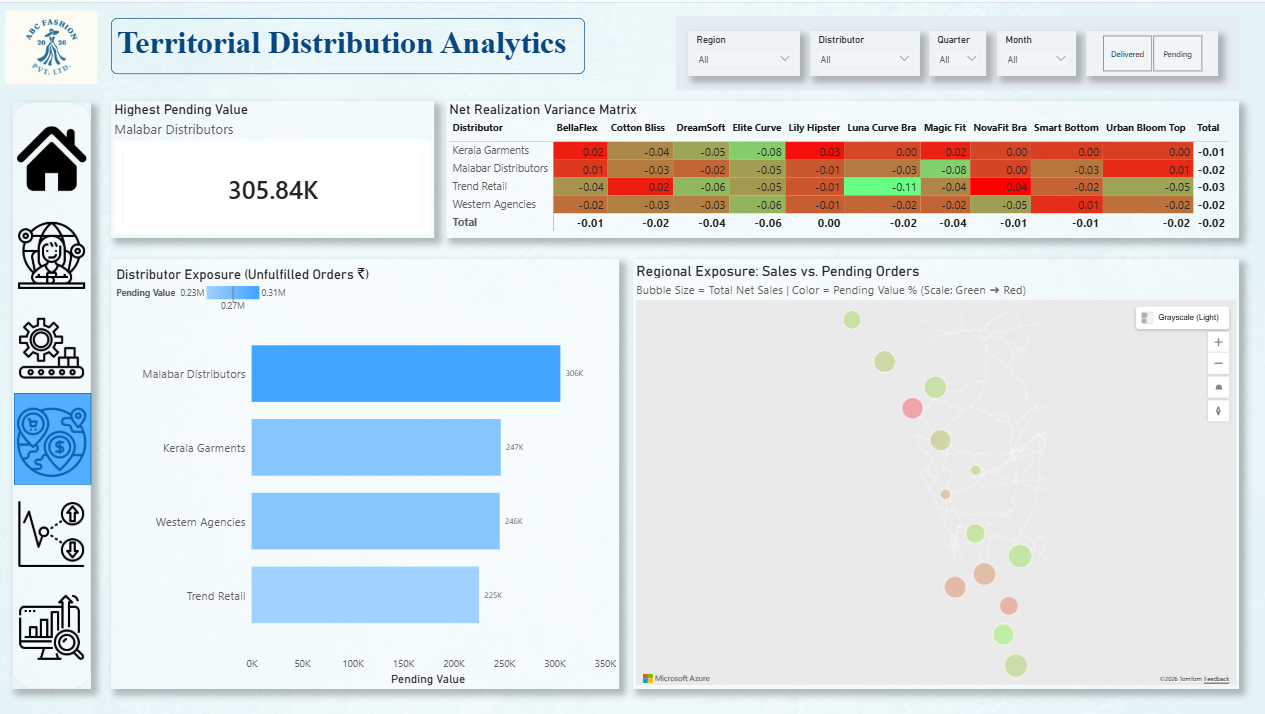

The dashboard page shown, as its layout file describes it:
{"tool":"powerbi","page":{"name":"Territorial Distribution Analytics","canvas":[1920,1080],"ordinal":3},"visuals":[{"type":"textbox","box":[169.2,22.2,717.7,85.4],"z":0},{"type":"image","box":[9.2,0,140.2,134.6],"z":1000},{"type":"azureMap","title":"Regional Exposure: Sales vs. Pending Orders","fields":{"Category":["Dim_Region.Region_FullName"],"Size":["Measures_Table.Total Net Sales"]},"box":[960,388.4,918.1,651],"z":4000},{"type":"image","box":[27,328.9,104.7,106.8],"z":5000,"group":"g1"},{"type":"clusteredBarChart","title":"Distributor Exposure (Unfulfilled Orders ₹)","fields":{"Category":["Dim_Distributor.Distributor"],"Y":["Measures_Table.Pending Value"]},"box":[169.9,388.4,770.2,651],"z":5000},{"type":"pivotTable","title":"Net Realization Variance Matrix","fields":{"Rows":["Dim_Distributor.Distributor"],"Columns":["Dim_Style.Product"],"Values":["Measures_Table.Net Realization Variance %"]},"box":[677.5,148.2,1200.6,207.4],"z":6000},{"type":"image","box":[27,177.2,104.7,117.3],"z":6000,"group":"g1"},{"type":"cardVisual","title":"Highest Pending Value ","fields":{"Data":["Measures_Table.Pending Value"]},"box":[170.2,148.2,489.8,206.9],"z":7000},{"type":"image","box":[27,889.6,104.7,113.1],"z":7000,"group":"g1"},{"type":"shape","box":[19.9,149.4,119.5,889],"z":8000},{"type":"group","id":"g1","title":"Navigation img","box":[22.8,177.2,113.1,825.5],"z":9000},{"type":"shape","box":[22.4,590.2,117,139.5],"z":10000},{"type":"shape","box":[1025.3,20.1,854.4,112.8],"z":11000},{"type":"slicer","fields":{"Values":["Dim_Date.MonthName"]},"box":[1512.4,42.3,119.6,68.4],"z":11000,"group":"g2"},{"type":"group","id":"g2","title":"Group 1","box":[1044.2,42.3,803.2,68.4],"z":12000},{"type":"slicer","fields":{"Values":["Dim_Region.Region"]},"box":[1044.2,42.3,169.2,68.4],"z":13000,"group":"g2"},{"type":"slicer","fields":{"Values":["Dim_Distributor.Distributor"]},"box":[1228.8,42.3,165.8,68.4],"z":14000,"group":"g2"},{"type":"slicer","fields":{"Values":["Dim_Date.Quarter"]},"box":[1409.9,42.3,87.2,68.4],"z":15000,"group":"g2"},{"type":"slicer","fields":{"Values":["Fact_Sales.Order Status"]},"box":[1647.4,42.3,199.9,68.4],"z":16000,"group":"g2"},{"type":"image","box":[27,470.1,104.7,106.8],"z":19000,"group":"g1"},{"type":"image","box":[27,611.3,104.7,106.8],"z":20000,"group":"g1"},{"type":"image","box":[22.8,752.6,113.1,102.6],"z":21000,"group":"g1"}]}

Visuals, with their boxes in screenshot pixels (x1, y1, x2, y2), scaled from the page's 1920x1080 canvas onto the 1265x714 screenshot:
textbox: 111:15:584:71
image: 6:0:98:89
"Regional Exposure: Sales vs. Pending Orders" azureMap: 632:257:1237:687
image: 18:217:87:288
"Distributor Exposure (Unfulfilled Orders ₹)" clusteredBarChart: 112:257:619:687
"Net Realization Variance Matrix" pivotTable: 446:98:1237:235
image: 18:117:87:195
"Highest Pending Value " cardVisual: 112:98:435:235
image: 18:588:87:663
shape: 13:99:92:686
"Navigation img" group: 15:117:90:663
shape: 15:390:92:482
shape: 676:13:1238:88
slicer - Dim_Date.MonthName: 996:28:1075:73
"Group 1" group: 688:28:1217:73
slicer - Dim_Region.Region: 688:28:799:73
slicer - Dim_Distributor.Distributor: 810:28:919:73
slicer - Dim_Date.Quarter: 929:28:986:73
slicer - Fact_Sales.Order Status: 1085:28:1217:73
image: 18:311:87:381
image: 18:404:87:475
image: 15:498:90:565
